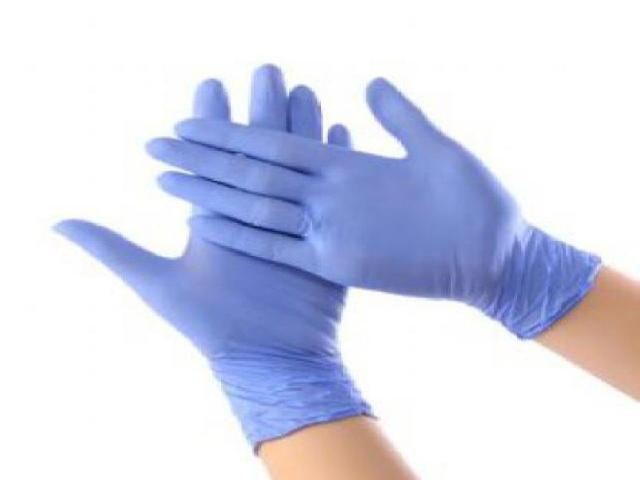Hand-in-Glove: (31, 58, 402, 456), (142, 79, 609, 339)
